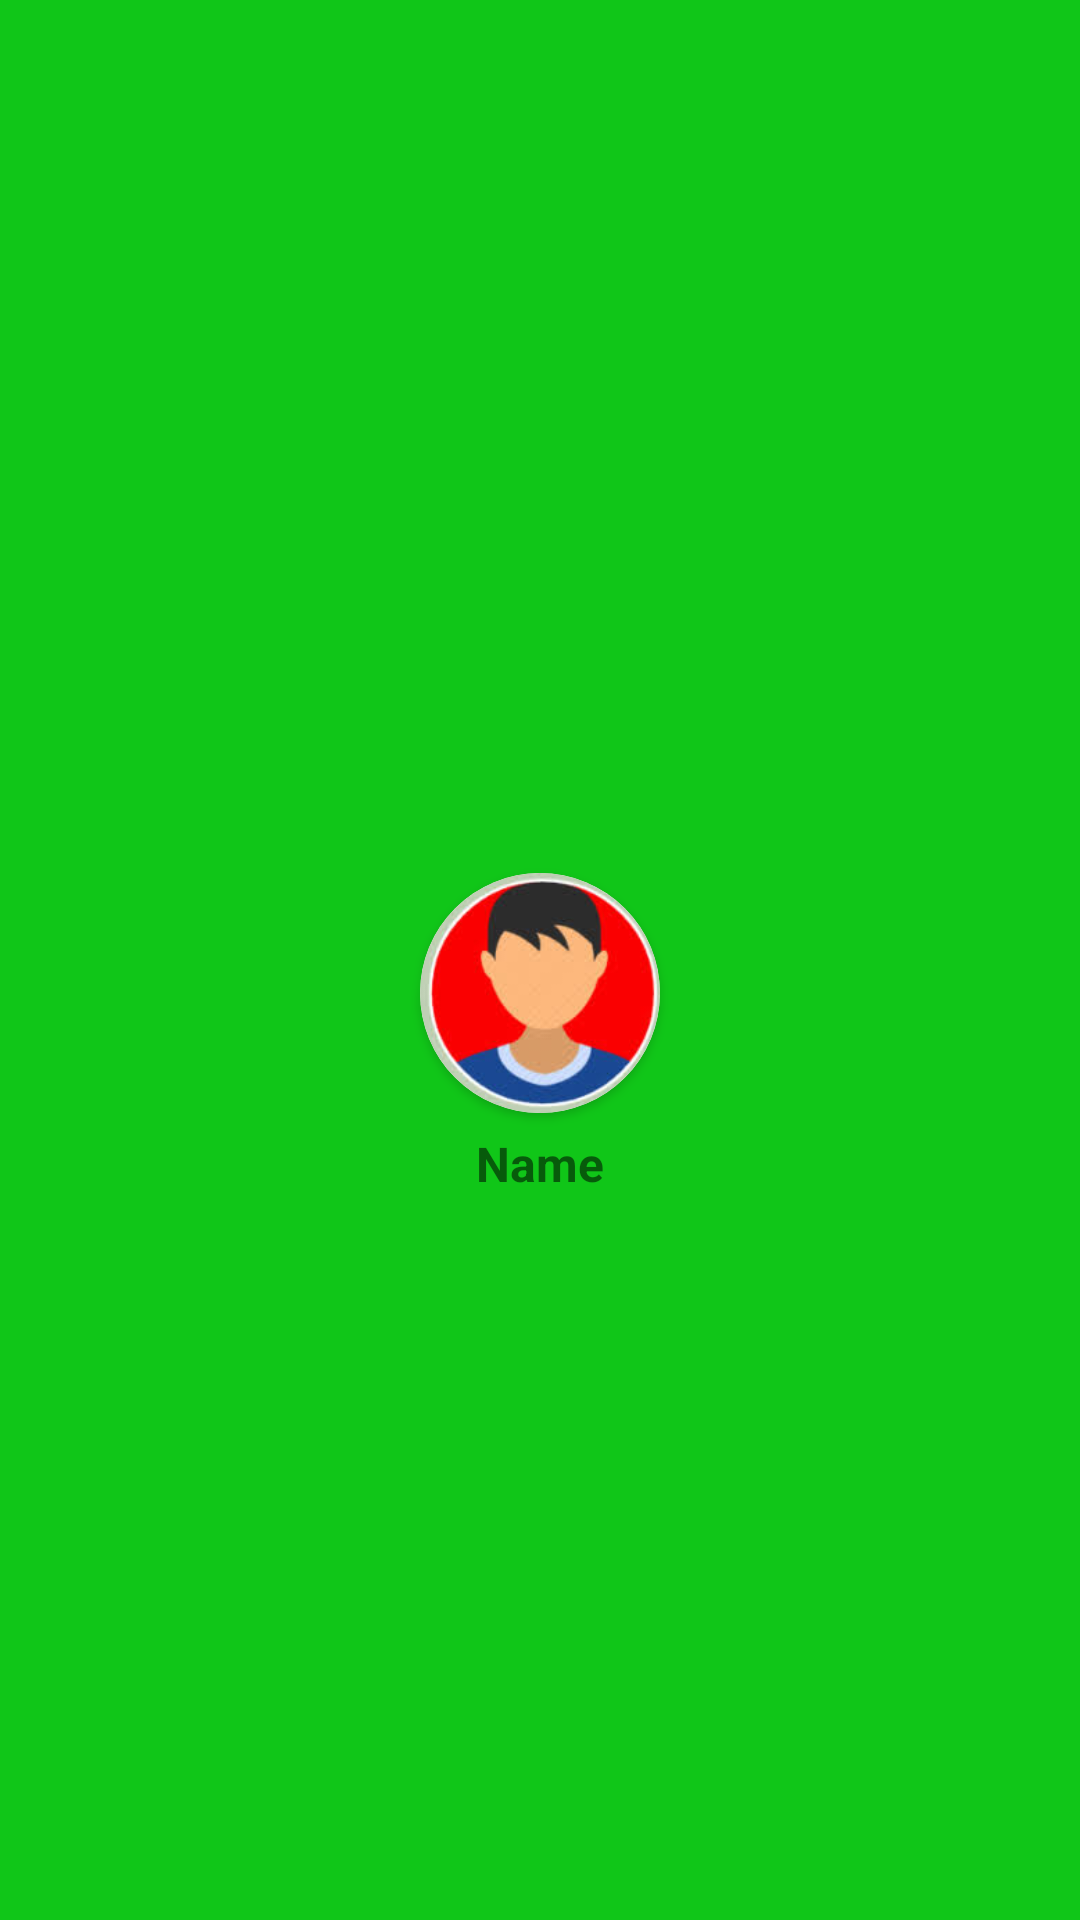

Screen size 1080×1920. Icon name, then its box in pixels as bbox=(x1, y1, x2, y2):
profile: bbox=(420, 873, 660, 1113)
